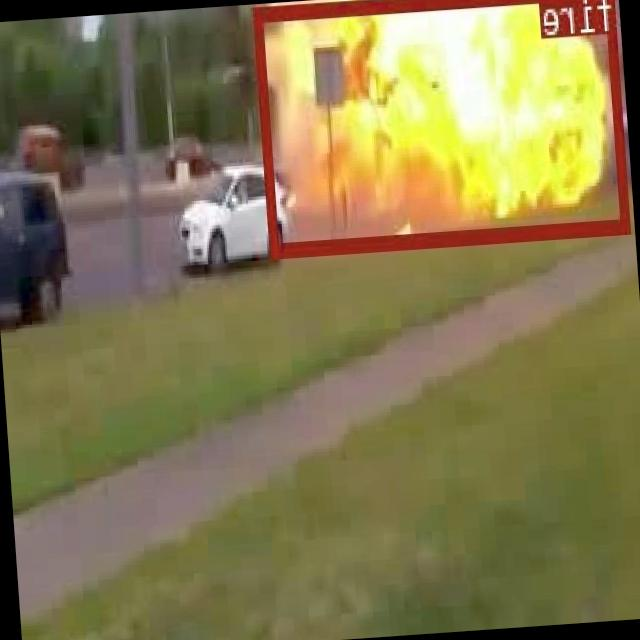fire: (253, 0, 630, 255)
